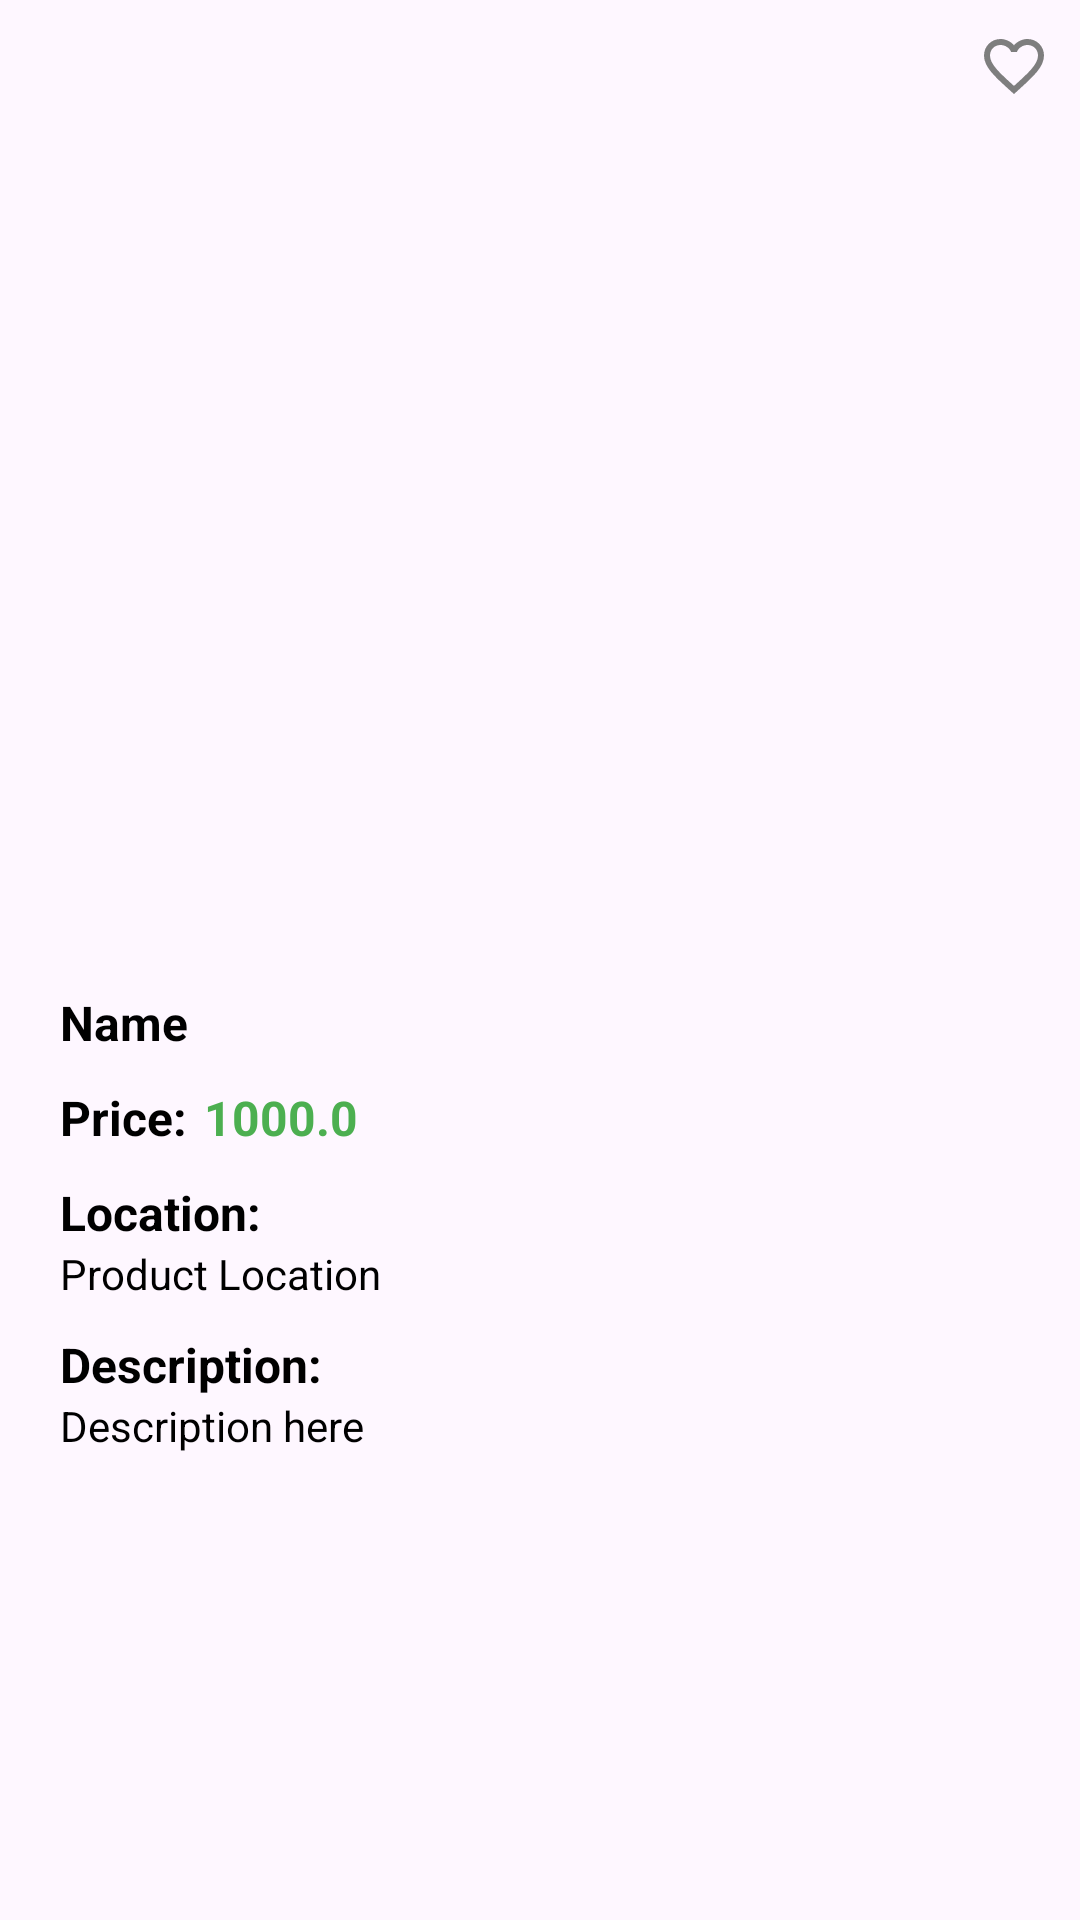

Point at icon controls on the screen. Image size 1080x1920, points as (x=x, y=y).
favorite border: (x=1014, y=66)
